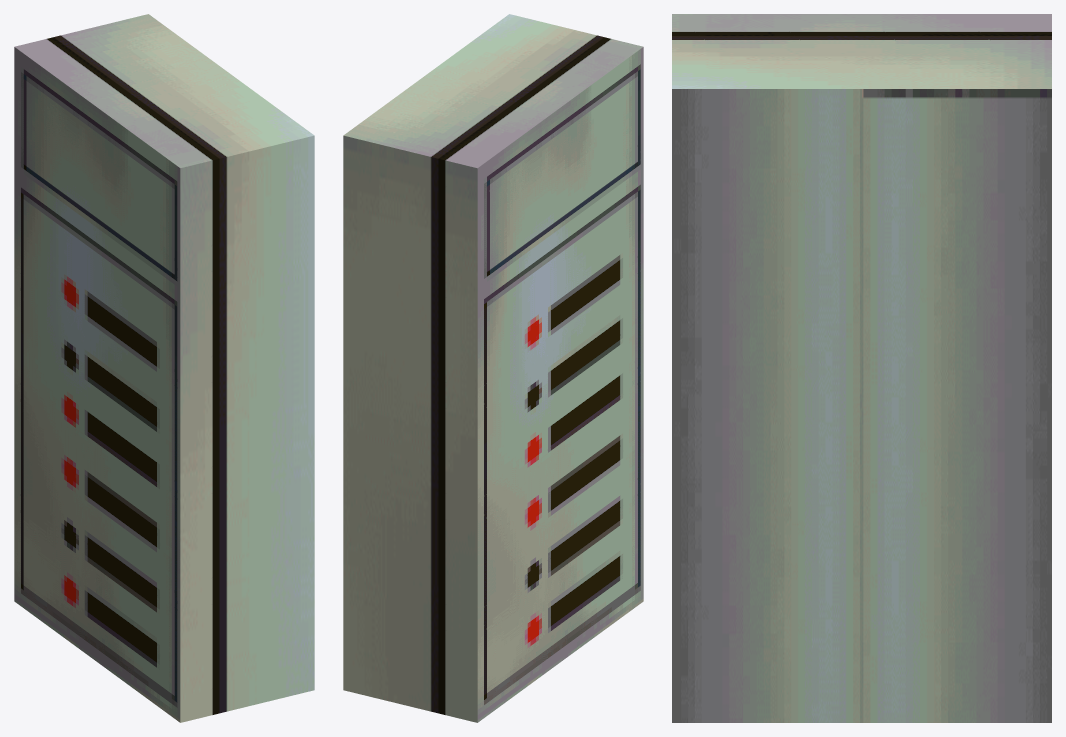
Rendered from WallMachine.fbx.
3 views of the same model, side by side, from view 1: azimuth 30°, elevation 25°; view 2: azimuth 150°, elevation 25°; view 3: azimuth 270°, elevation 25° (orthographic). The views are drawn at different scales.
Parts seen in each view (by area): view 1: Cube.039; view 2: Cube.039; view 3: Cube.039.
Boxes of the visible parts, x1=… form: Cube.039: x1=14, y1=14, x2=314, y2=722; Cube.039: x1=343, y1=14, x2=643, y2=722; Cube.039: x1=672, y1=14, x2=1051, y2=722.
Size of the model in its own units: 0.4696 by 1.85 by 1.01.
1 material, 1 textured.
